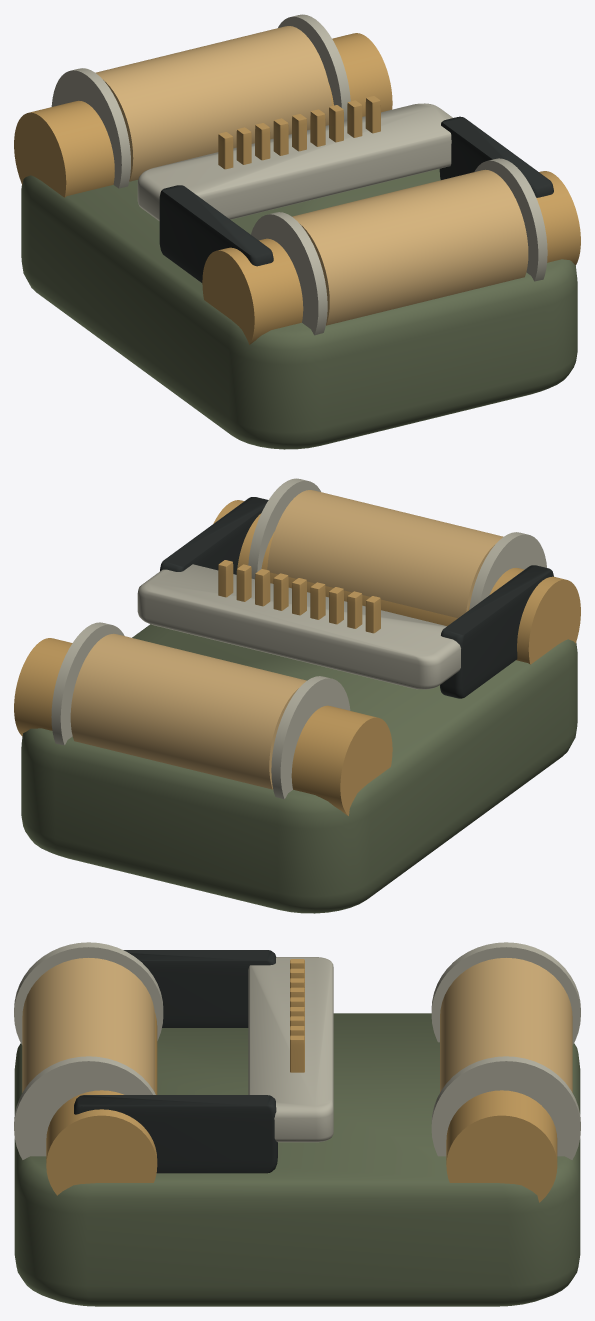
Rendered from Traveller.glb.
3 views of the same model, one above another, from view 1: azimuth 30°, elevation 25°; view 2: azimuth 150°, elevation 25°; view 3: azimuth 270°, elevation 25° (orthographic). The views are drawn at different scales.
Visible parts, largest first — view 1: Recorder casing, Wound paper (×2), Tape axle (×2), Reader throat, Feed reel lip (×4), Ribbon guard (×2), Reader spring (×7); view 2: Recorder casing, Wound paper (×2), Reader throat, Tape axle (×2), Feed reel lip (×4), Ribbon guard (×2), Reader spring (×7); view 3: Recorder casing, Wound paper (×2), Feed reel lip (×4), Ribbon guard (×2), Tape axle (×2), Reader throat, Reader spring.
Boxes of the visible parts, x1,y1,x2,y2 form: Recorder casing: (21, 169, 577, 449); Wound paper (×2): (95, 26, 528, 325); Tape axle (×2): (14, 33, 580, 344); Reader throat: (137, 103, 452, 220); Feed reel lip (×4): (51, 14, 547, 335); Ribbon guard (×2): (159, 116, 553, 282); Reader spring (×7): (218, 96, 380, 169); Recorder casing: (21, 624, 577, 913); Wound paper (×2): (70, 490, 503, 789); Reader throat: (137, 564, 460, 689); Tape axle (×2): (14, 500, 580, 815); Feed reel lip (×4): (51, 478, 546, 799); Ribbon guard (×2): (160, 497, 553, 698); Reader spring (×7): (218, 560, 380, 633); Recorder casing: (14, 1013, 580, 1306); Wound paper (×2): (22, 958, 572, 1092); Feed reel lip (×4): (14, 942, 580, 1159); Ribbon guard (×2): (74, 950, 277, 1173); Tape axle (×2): (46, 1012, 557, 1202); Reader throat: (248, 957, 333, 1142); Reader spring: (290, 1035, 304, 1072).
Bounding box in the file's own units: 0.9586 × 0.5675 × 1.3.
